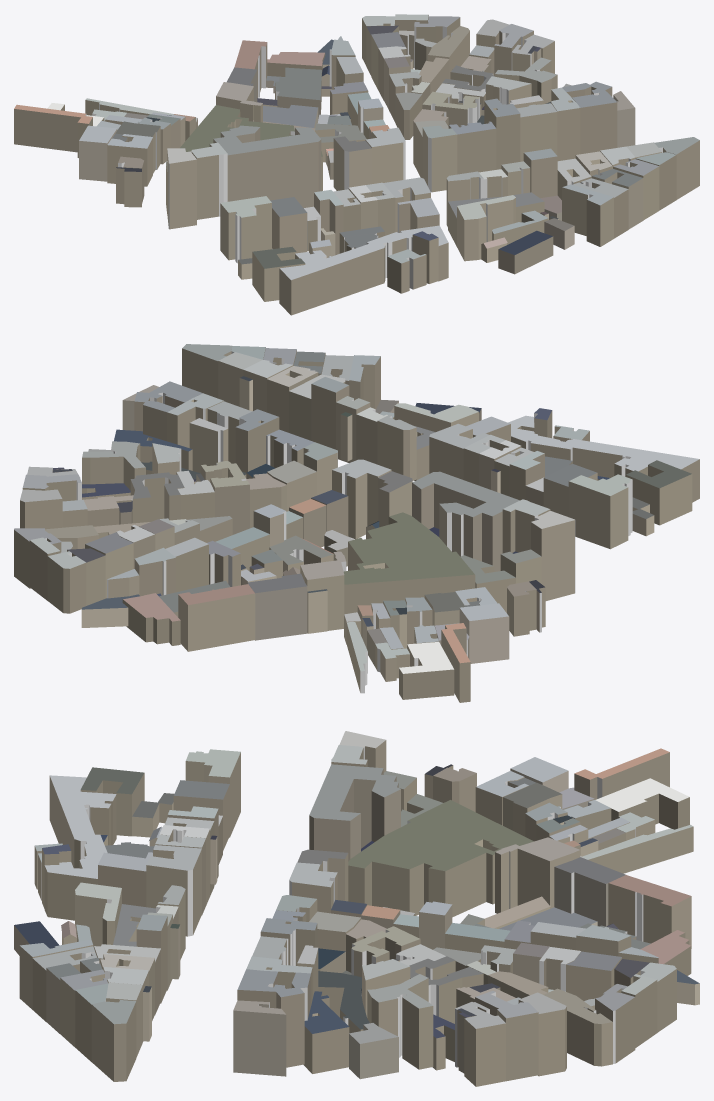
3 views of the same model, one above another, from view 1: azimuth 30°, elevation 25°; view 2: azimuth 150°, elevation 25°; view 3: azimuth 270°, elevation 25° (orthographic). The views are drawn at different scales.
Visible parts, largest first — view 1: tuile; view 2: tuile; view 3: tuile.
Boxes of the visible parts, x1=… form: tuile: x1=14, y1=14, x2=699, y2=315; tuile: x1=14, y1=344, x2=699, y2=702; tuile: x1=14, y1=731, x2=699, y2=1086.
Size of the model in its own units: 274 by 41.96 by 273.
